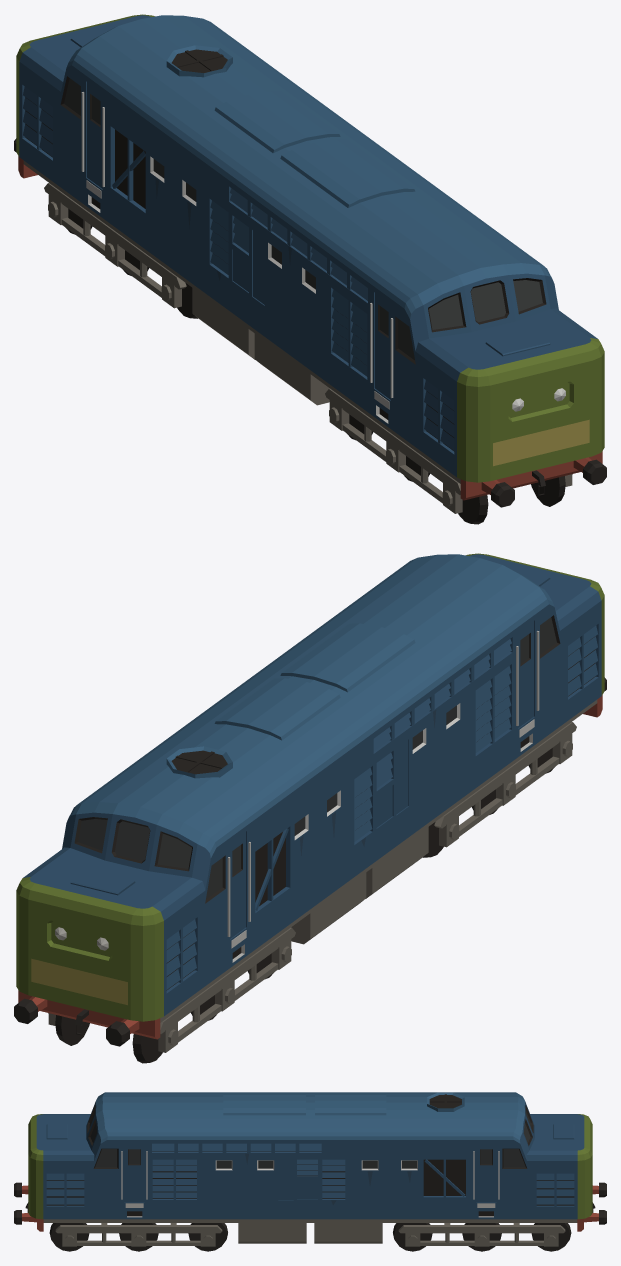
File: mainline-diesel-locomotive-33ef97.glb
3 renders of one model, top to bottom at view 1: azimuth 30°, elevation 25°; view 2: azimuth 150°, elevation 25°; view 3: azimuth 270°, elevation 25°, orthographic. The views are drawn at different scales.
Parts seen in each view (by area): view 1: body, bogie-f-frame, bogie-r-frame, wheel-f1-set; view 2: body, bogie-r-frame, bogie-f-frame, wheel-r1-set; view 3: body, bogie-f-frame, bogie-r-frame, wheel-f1-set, wheel-r1-set, wheel-f3-set, wheel-r3-set, wheel-f2-set, wheel-r2-set.
Part boxes in pixels (<box>): body: <box>14,14,606,507</box>; bogie-f-frame: <box>325,388,572,513</box>; bogie-r-frame: <box>44,183,186,308</box>; wheel-f1-set: <box>458,476,565,524</box>; body: <box>14,553,606,1046</box>; bogie-r-frame: <box>48,927,295,1052</box>; bogie-f-frame: <box>434,722,576,847</box>; wheel-r1-set: <box>55,1015,162,1063</box>; body: <box>14,1092,606,1243</box>; bogie-f-frame: <box>55,1223,222,1246</box>; bogie-r-frame: <box>398,1223,565,1246</box>; wheel-f1-set: <box>49,1223,89,1251</box>; wheel-r1-set: <box>531,1223,571,1251</box>; wheel-f3-set: <box>188,1223,227,1251</box>; wheel-r3-set: <box>393,1223,432,1251</box>; wheel-f2-set: <box>119,1223,158,1251</box>; wheel-r2-set: <box>462,1223,501,1251</box>.
Size of the model in its own units: 2.81 by 4.16 by 16.
